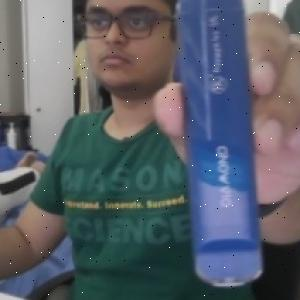Diamond-E-Ciggirate: (180, 0, 264, 289)
